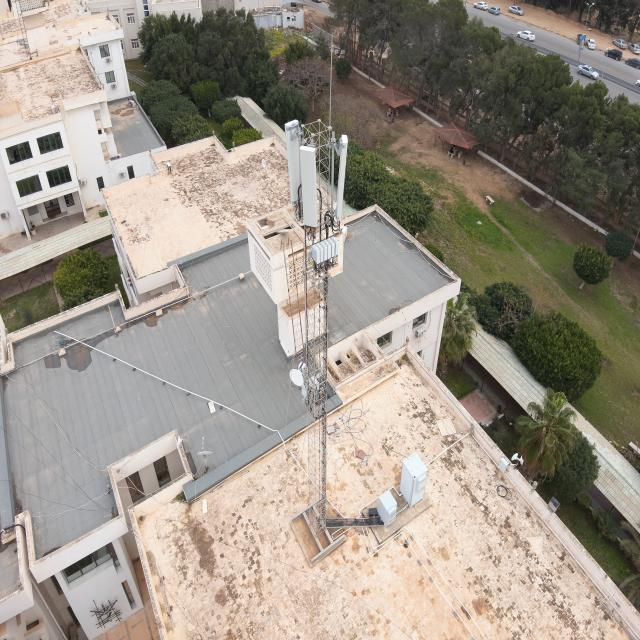antenna: (298, 144, 322, 229), (283, 117, 302, 208), (334, 133, 350, 222)
lighnig-rad: (329, 32, 333, 130)
microware-dish: (290, 360, 310, 387)
power-box: (300, 377, 322, 398)
radio-unit: (310, 232, 339, 264)
